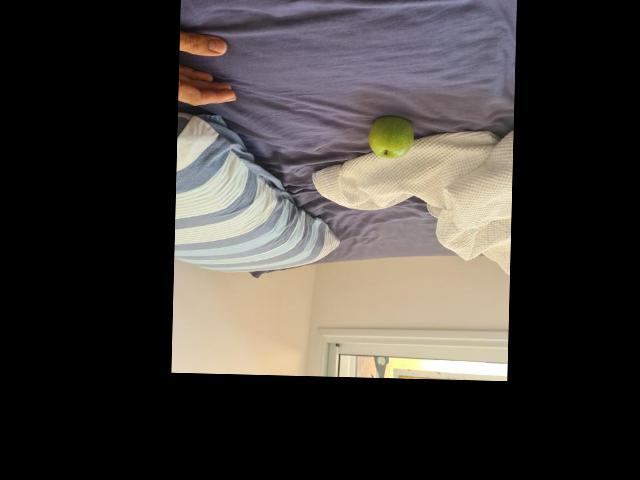apple: (370, 115, 414, 162)
